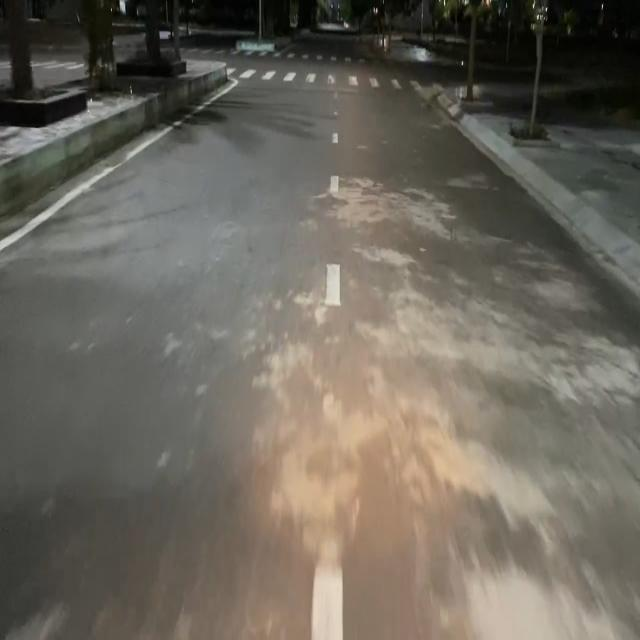walk-crossing: (237, 68, 427, 96)
